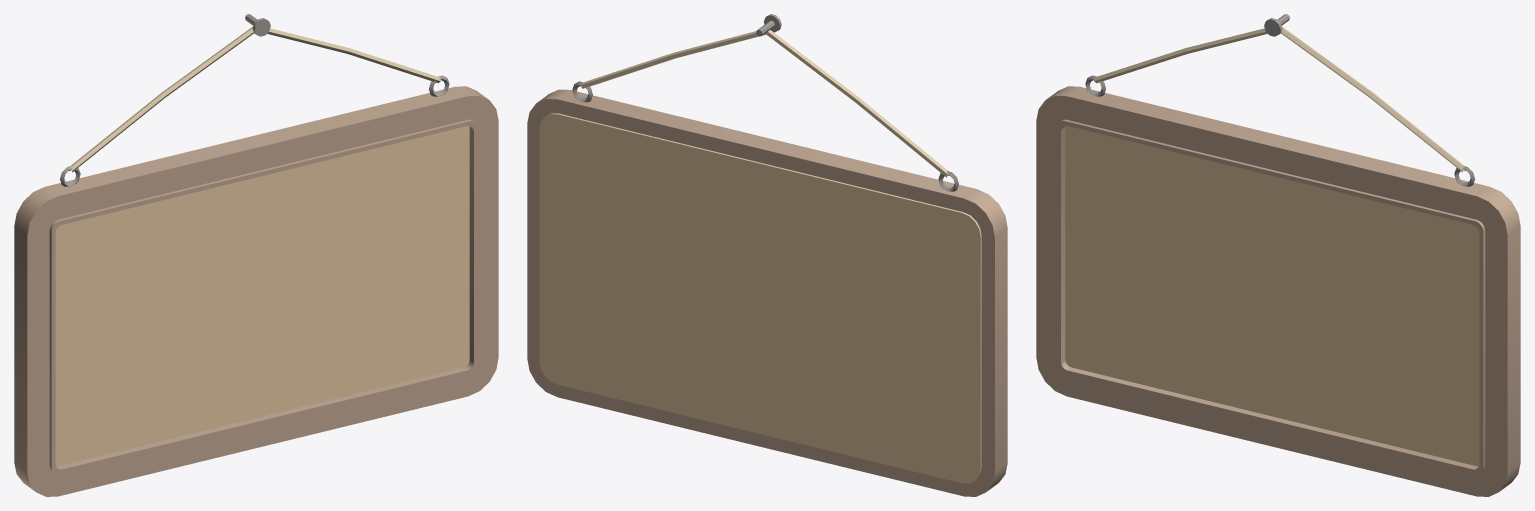
The model's file is sign_small.glb.
The picture shows the model from 3 angles, left to right: view 1: azimuth 30°, elevation 25°; view 2: azimuth 150°, elevation 25°; view 3: azimuth 330°, elevation 25°; orthographic projection.
Parts seen in each view (by area): view 1: sign_small; view 2: sign_small; view 3: sign_small.
Boxes of the visible parts, bbox=[...] form: sign_small: bbox=[14, 14, 498, 496]; sign_small: bbox=[527, 14, 1007, 496]; sign_small: bbox=[1036, 14, 1520, 496].
Size of the model in its own units: 0.46 by 0.3976 by 0.028.
